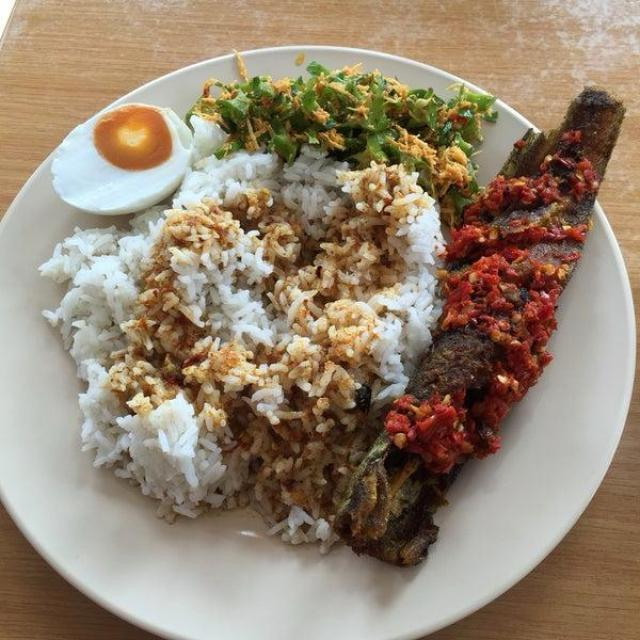Egg: (50, 102, 195, 217)
Fish: (313, 78, 630, 567)
Plate: (0, 153, 633, 635)
Rice: (40, 116, 446, 554)
Vegetables: (193, 67, 503, 225)
